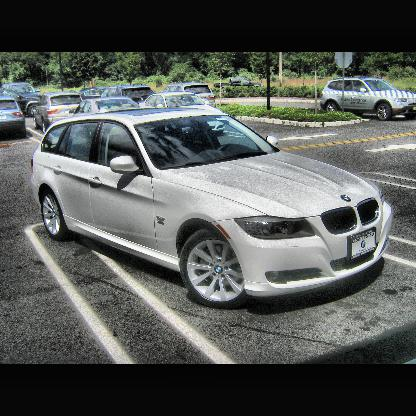BMW 3 Series Wagon 2012: (23, 84, 401, 334)
